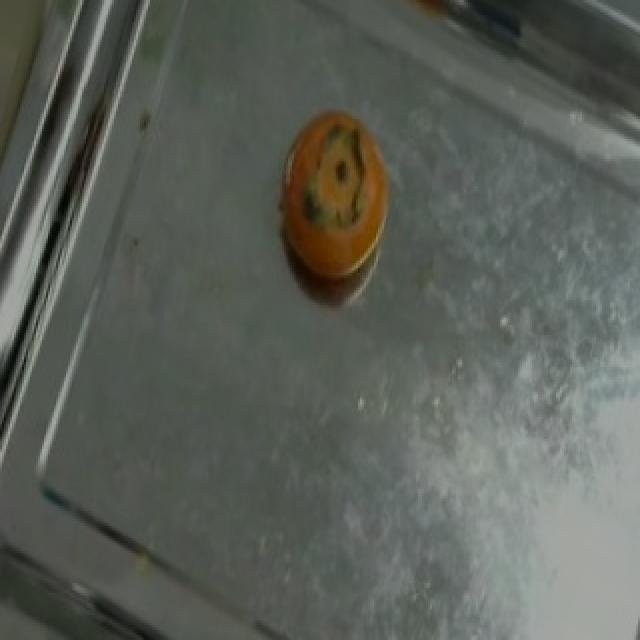Fruit: (258, 89, 410, 300)
